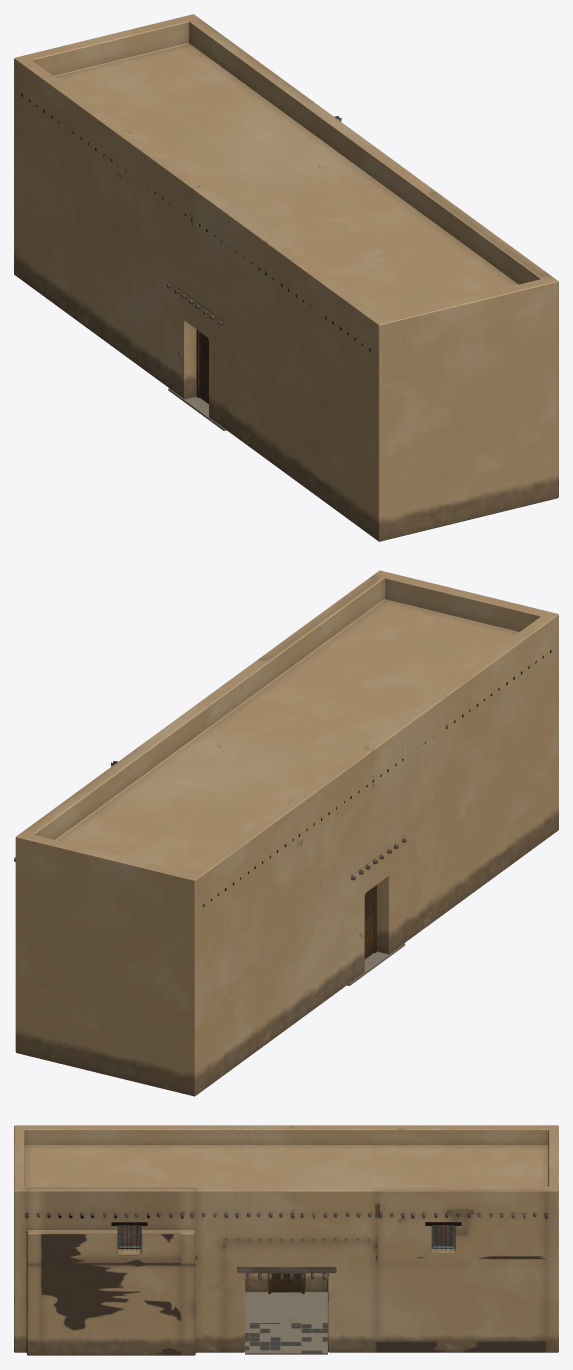
The model's file is souq_endW.glb.
The picture shows the model from 3 angles, top to bottom: view 1: azimuth 30°, elevation 25°; view 2: azimuth 150°, elevation 25°; view 3: azimuth 270°, elevation 25°; orthographic projection. The views are drawn at different scales.
Parts seen in each view (by area): view 1: GX_endW_LOD0; view 2: GX_endW_LOD0; view 3: GX_endW_LOD0.
Part boxes in pixels (bbox=[...]): GX_endW_LOD0: bbox=[14, 14, 558, 541]; GX_endW_LOD0: bbox=[14, 570, 558, 1096]; GX_endW_LOD0: bbox=[14, 1125, 558, 1355].
Size of what is drawn, in the model's own units: 6.91 by 6.96 by 21.
Materials: 3 (1 with a texture image).
